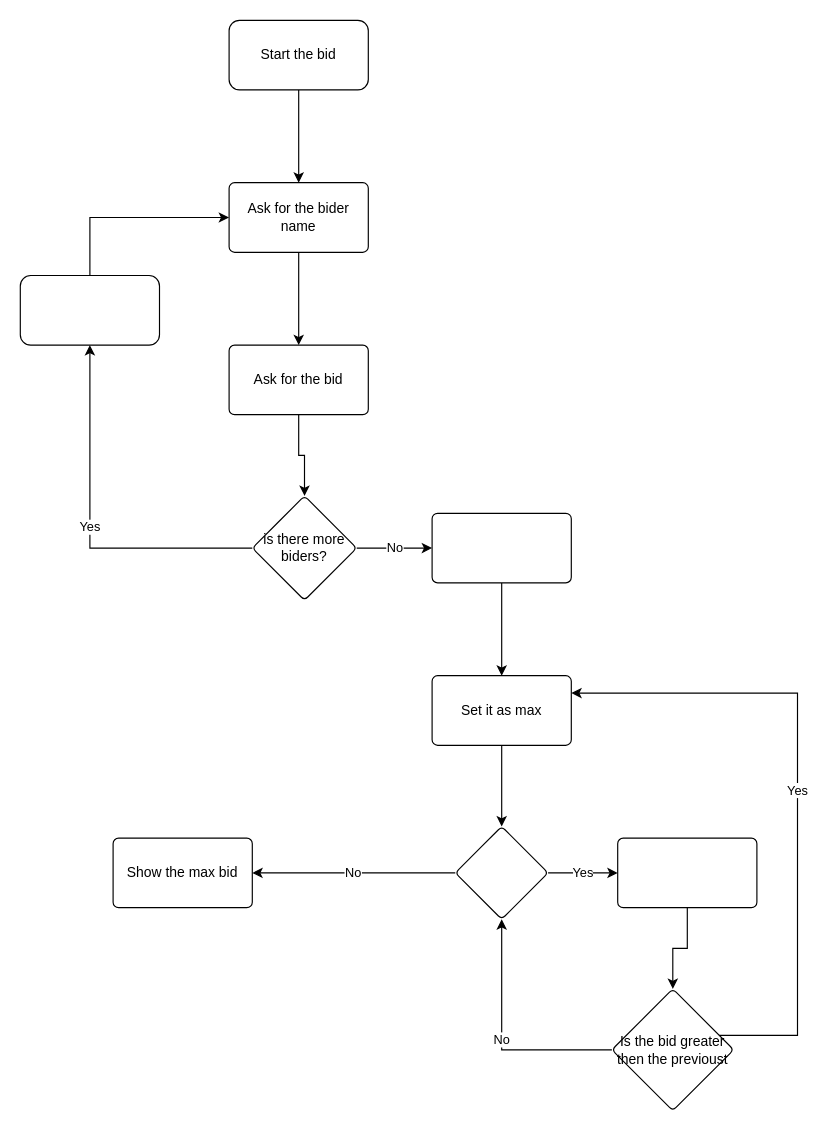
This 828x1131 diagram has some shape labels left out. The shapes that lost their labels are listed below. From the top down, each one's centre as x and y in pixels, then its label:
At pixel 89 309: "Clear screen".
At pixel 501 547: "Read the first bider bid".
At pixel 501 872: "is tehere more biders in list".
At pixel 687 872: "Read the next bid".
